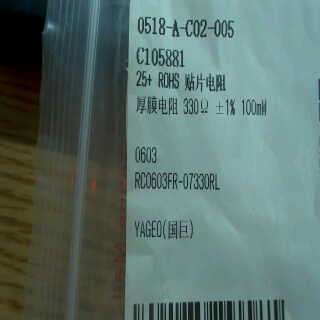330R: (180, 94, 212, 116)
